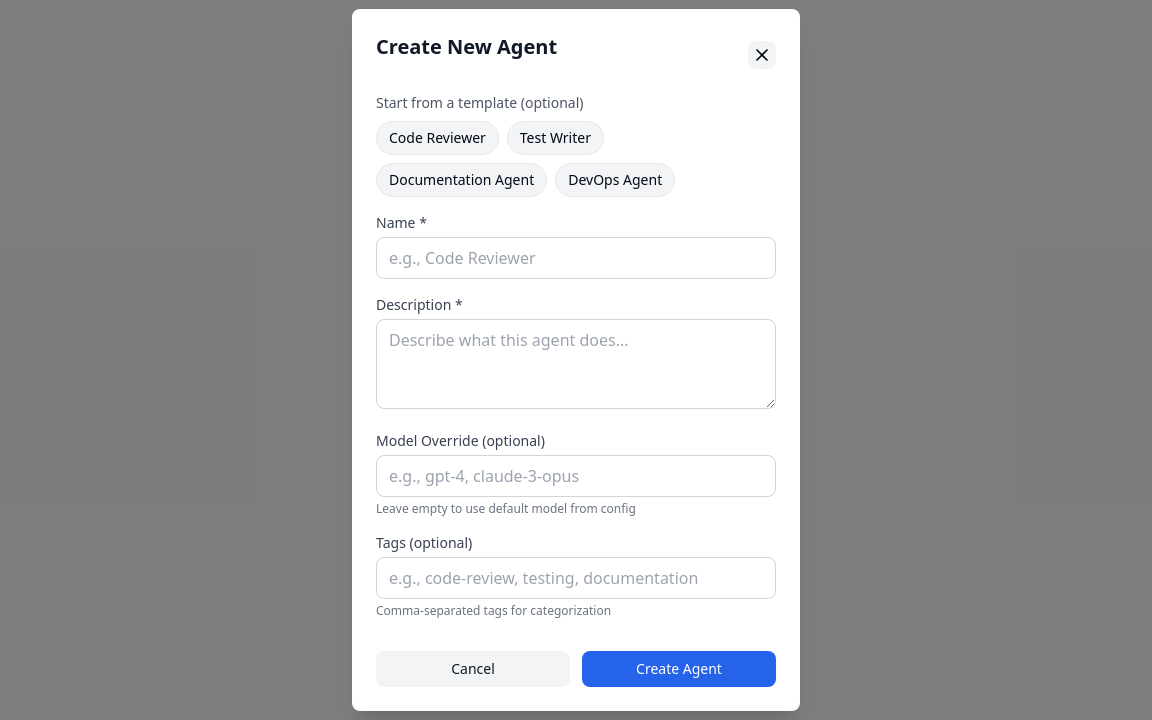
it: CreateAgentModal › shows validation error when name is empty
Click the button "Create Agent" at (679, 669), box [582, 651, 776, 687]
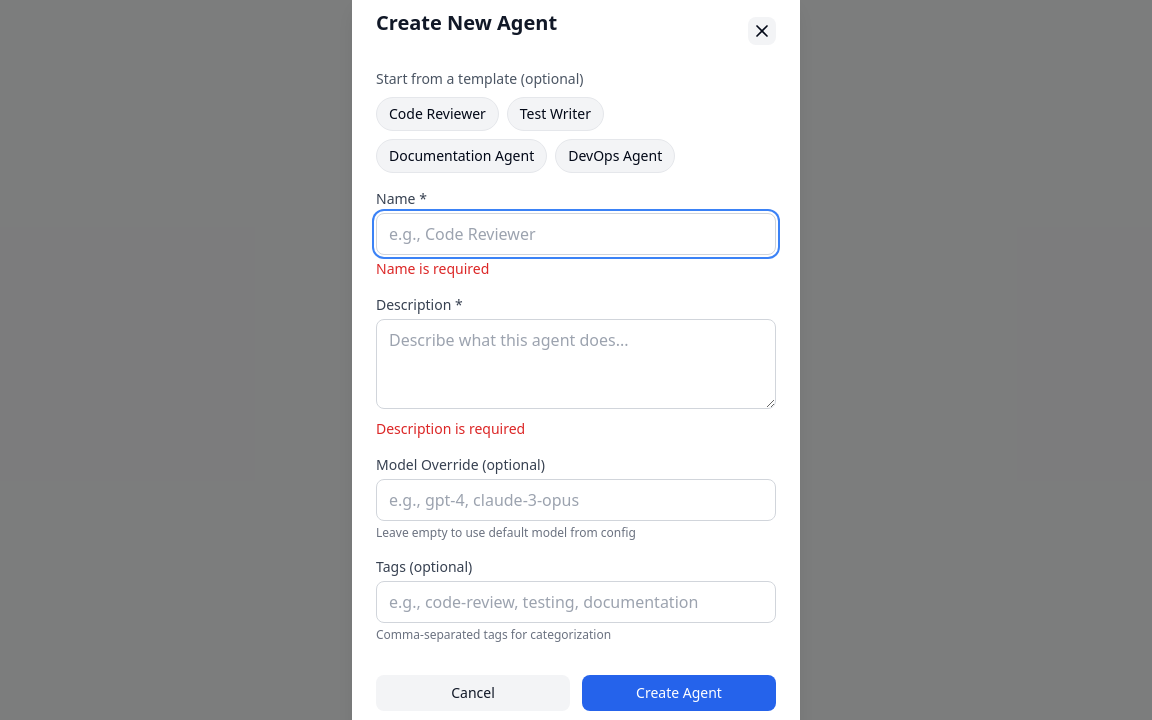
Expected: the text "Name is required" is shown, [376, 259, 489, 278]
